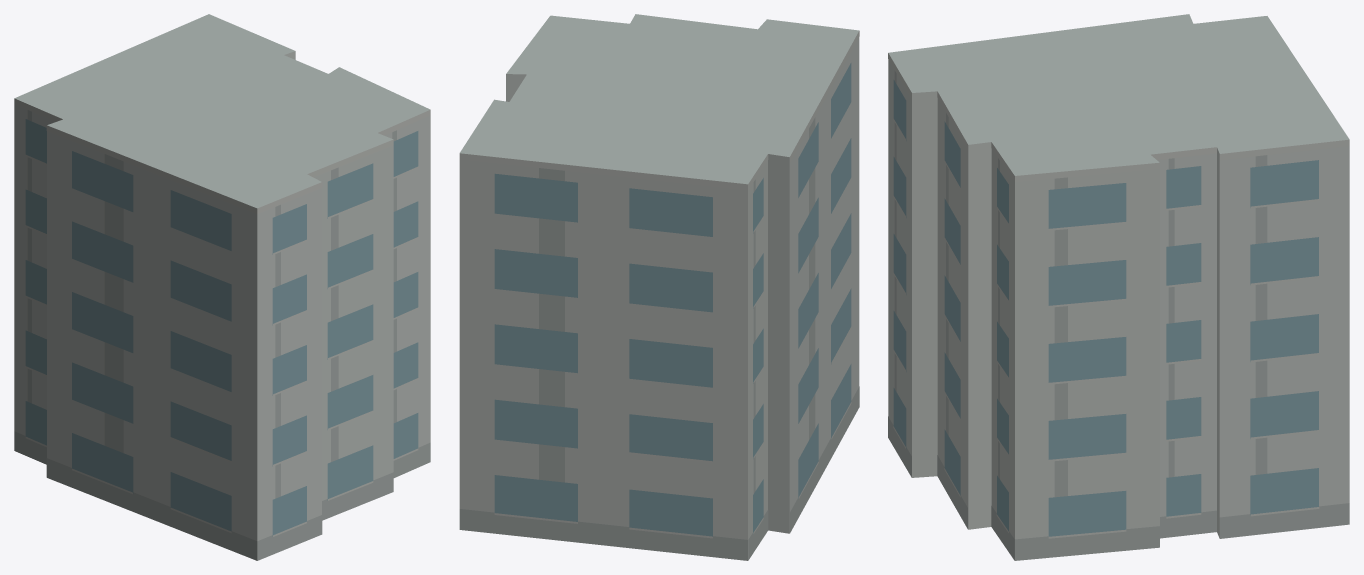
The model's file is survey-upis-32910824.glb.
3 views of the same model, side by side, from view 1: azimuth 30°, elevation 25°; view 2: azimuth 150°, elevation 25°; view 3: azimuth 270°, elevation 25° (orthographic). The views are drawn at different scales.
Parts seen in each view (by area): view 1: survey-upis-32910824.tmp; view 2: survey-upis-32910824.tmp; view 3: survey-upis-32910824.tmp.
Boxes of the visible parts, <box> form: survey-upis-32910824.tmp: <box>14,14,430,560</box>; survey-upis-32910824.tmp: <box>459,14,859,560</box>; survey-upis-32910824.tmp: <box>888,14,1349,560</box>.
Bounding box in the file's own units: 13.46 × 14.9 × 16.2.
